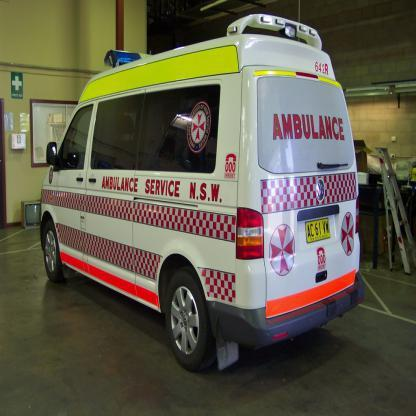Ambulance - v1 Ambulance last generate: (38, 13, 364, 373)
